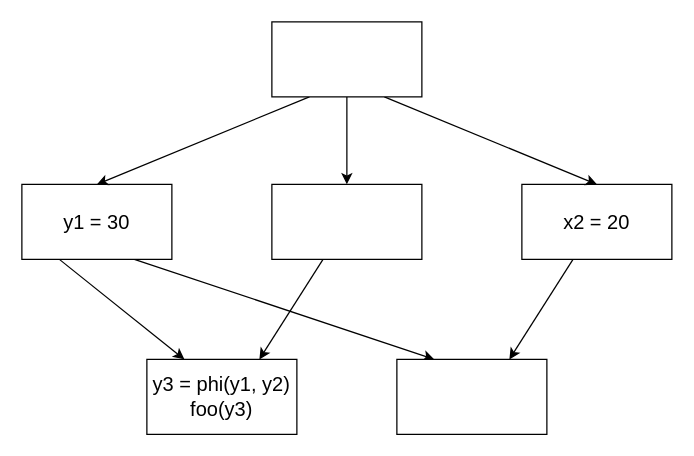
Image size: 694x456. Some labels were removed from this diagram. Each missing label, with the centre of its shape:
"x3 = phi(y1, x2) goo(x3)" goes at (471,396).
"y2 = 10" goes at (346,221).
